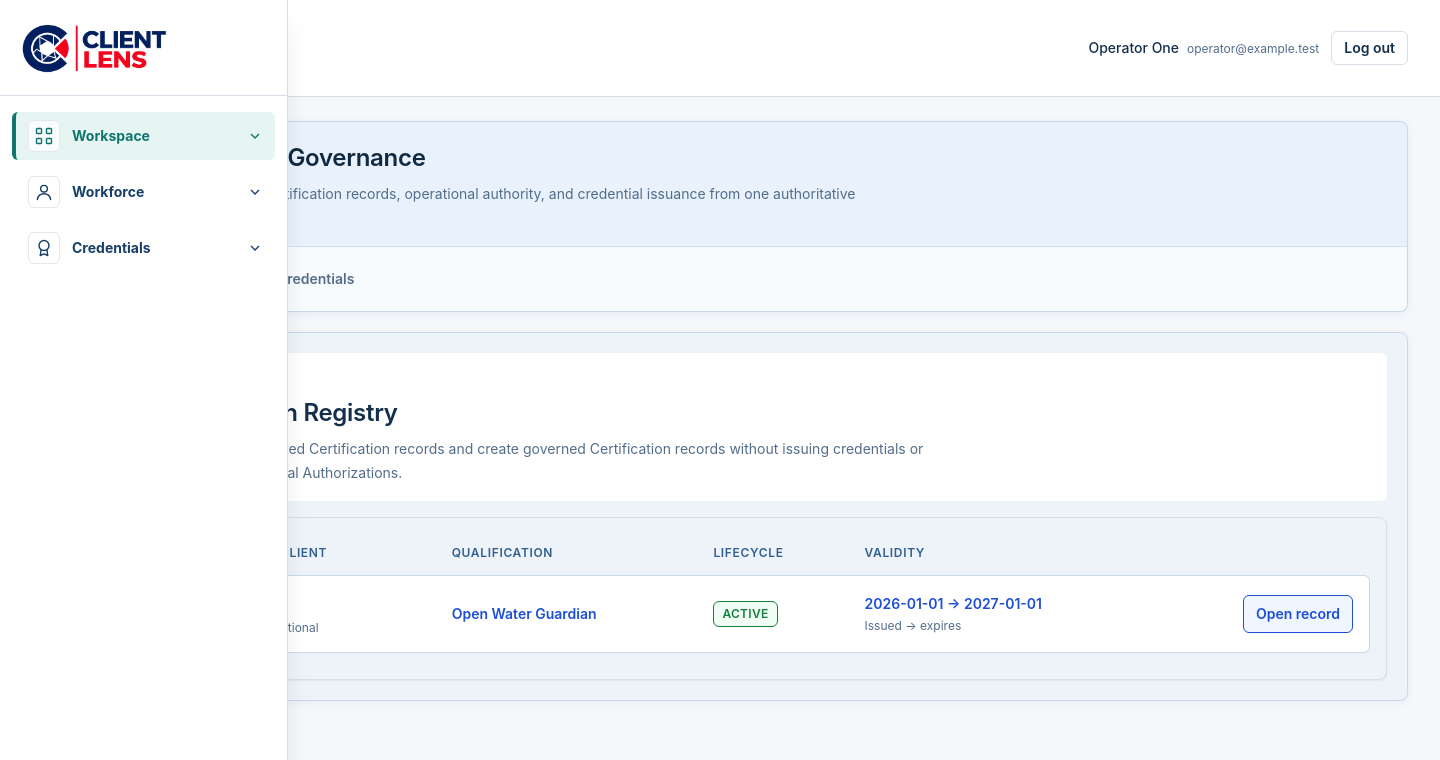
Test: Certification workspace frontend › loads persisted Credential Issuance history for a selected Certification
The width and height of the screenshot is (1440, 760).
Click the button with aria-label "View Certificate Details": coordinates (1298, 614) [1243, 595, 1353, 633]
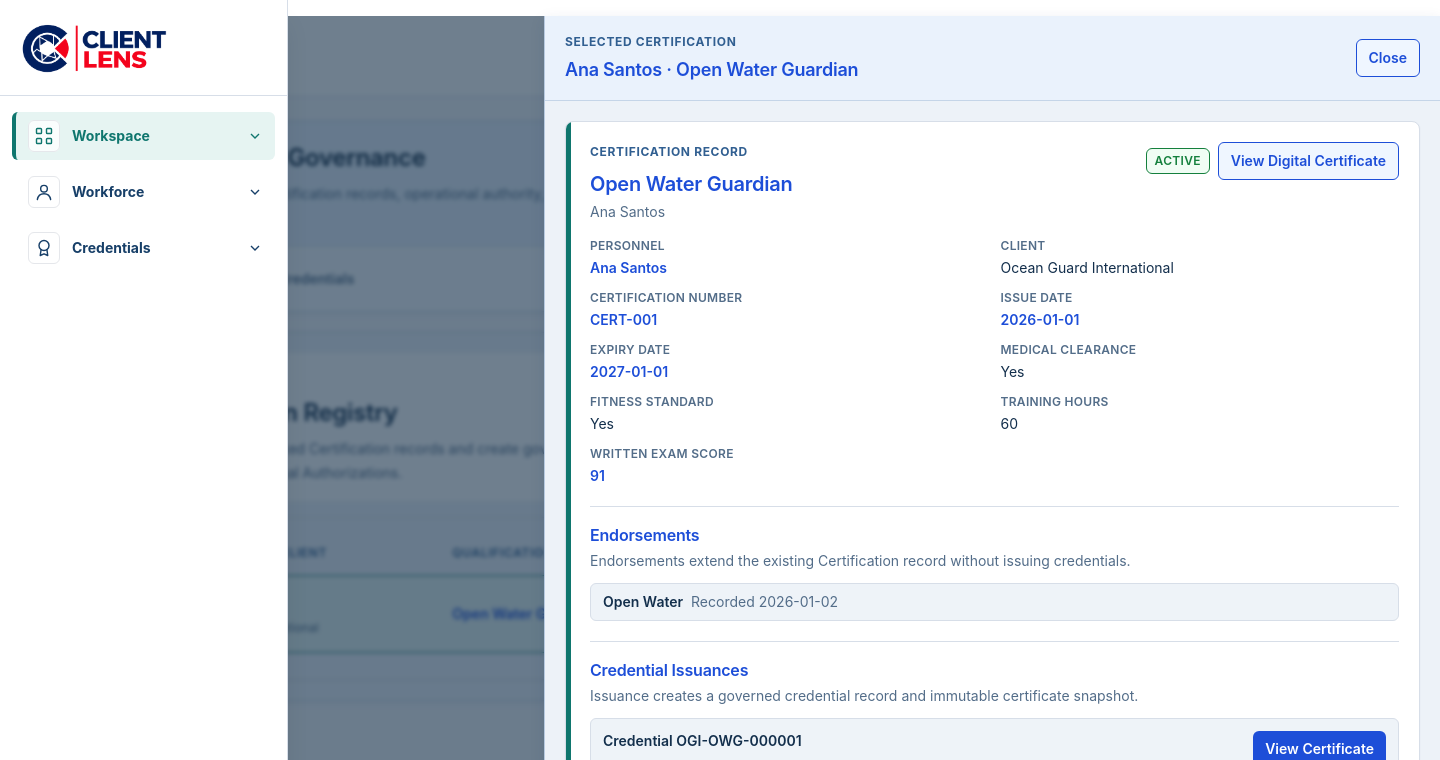
Now the text "Credential OGI-OWG-000001" is shown, box [603, 731, 802, 751]
